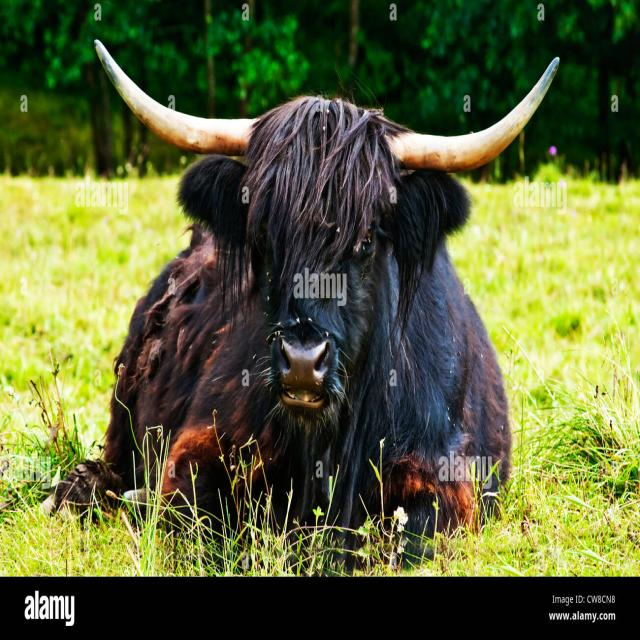Ox: (75, 52, 570, 514)
